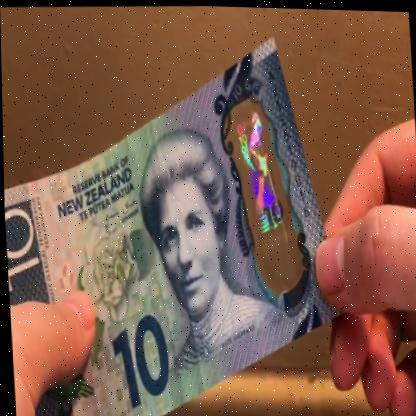10B: (231, 102, 288, 238)
